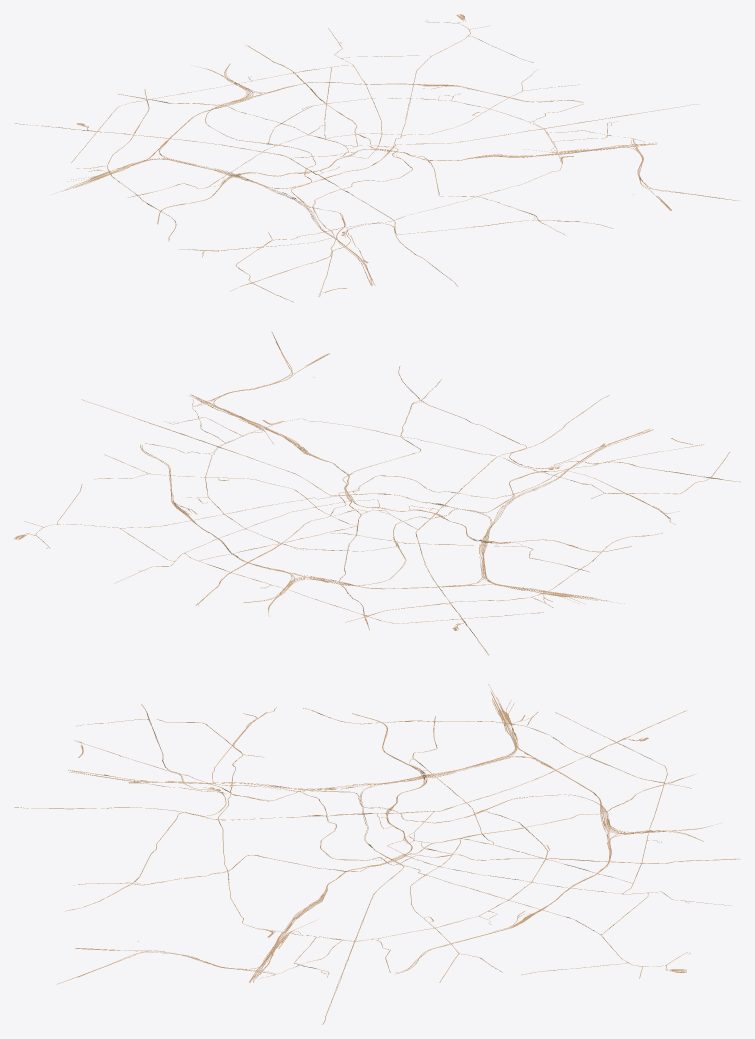
File: rail.glb
3 renders of one model, top to bottom at view 1: azimuth 30°, elevation 25°; view 2: azimuth 150°, elevation 25°; view 3: azimuth 270°, elevation 25°, orthographic. The views are drawn at different scales.
Parts seen in each view (by area): view 1: rail; view 2: rail; view 3: rail.
Part boxes in pixels (bbox=[...]): rail: bbox=[14, 14, 740, 302]; rail: bbox=[14, 331, 740, 655]; rail: bbox=[14, 684, 740, 1024].
Bounding box in the file's own units: 11887 × 43.53 × 10703.
